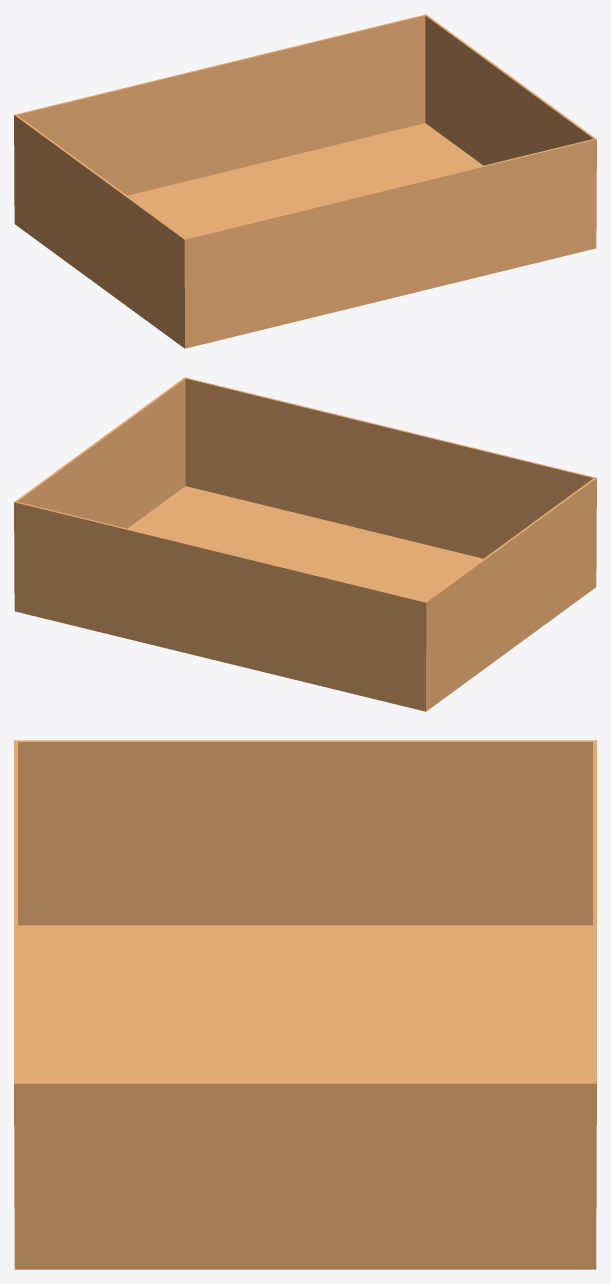
Rendered from small box.fbx.
3 renders of one model, top to bottom at view 1: azimuth 30°, elevation 25°; view 2: azimuth 150°, elevation 25°; view 3: azimuth 270°, elevation 25°, orthographic. The views are drawn at different scales.
Parts seen in each view (by area): view 1: Plane.016; view 2: Plane.016; view 3: Plane.016.
Part boxes in pixels (x1=…): Plane.016: x1=14, y1=14, x2=596, y2=348; Plane.016: x1=14, y1=377, x2=596, y2=711; Plane.016: x1=14, y1=740, x2=596, y2=1269.
Size of the model in its own units: 24.45 by 6.19 by 17.54.
